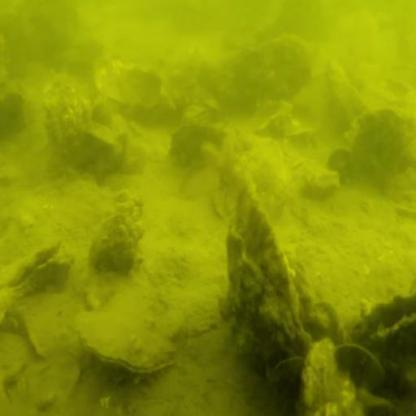Oyster- Indeterminate: (0, 242, 80, 312)
Oyster-Closed: (230, 176, 312, 360), (226, 37, 316, 109), (80, 307, 174, 373), (297, 338, 362, 416), (25, 290, 92, 363), (338, 107, 411, 170), (18, 354, 86, 416)
Oyster-Open: (347, 292, 416, 357)
